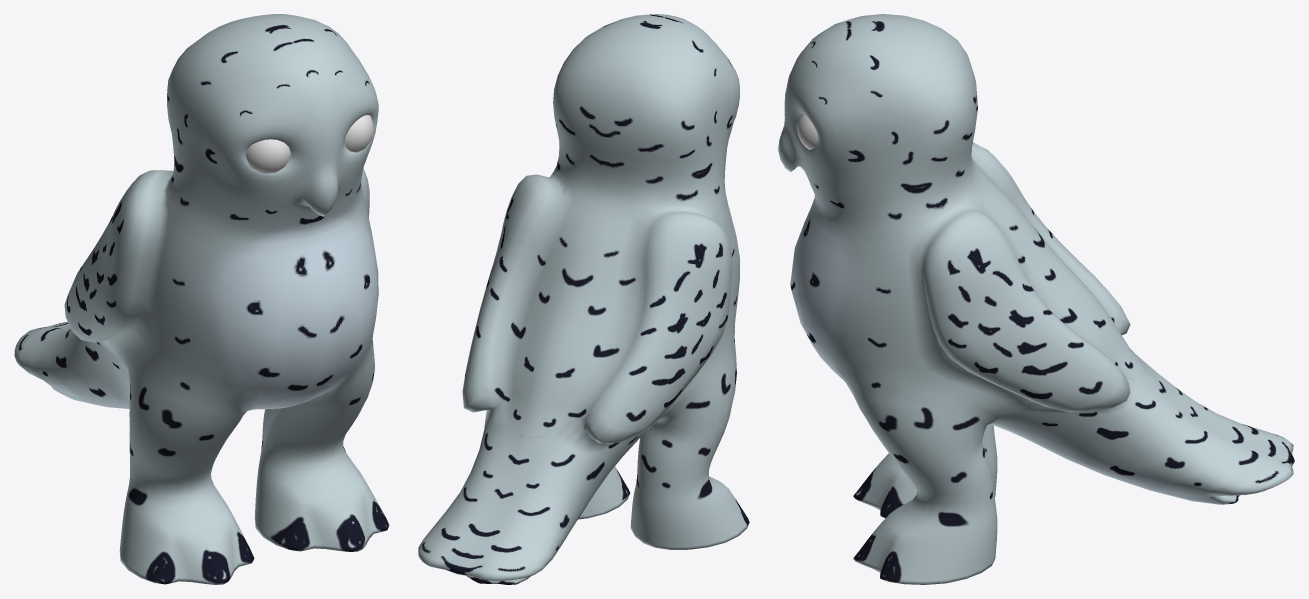
The model's file is Owl.fbx.
The picture shows the model from 3 angles, left to right: view 1: azimuth 30°, elevation 25°; view 2: azimuth 150°, elevation 25°; view 3: azimuth 270°, elevation 25°; orthographic projection. The views are drawn at different scales.
Visible parts, largest first — view 1: Plane, Sphere; view 2: Plane; view 3: Plane.
Boxes of the visible parts, x1,y1,x2,y2 form: Plane: (14, 14, 389, 584); Sphere: (245, 115, 374, 173); Plane: (418, 14, 749, 584); Plane: (778, 14, 1294, 584).
Bounding box in the file's own units: 51.55 × 105 × 97.91.
Materials: 1 (1 with a texture image).
